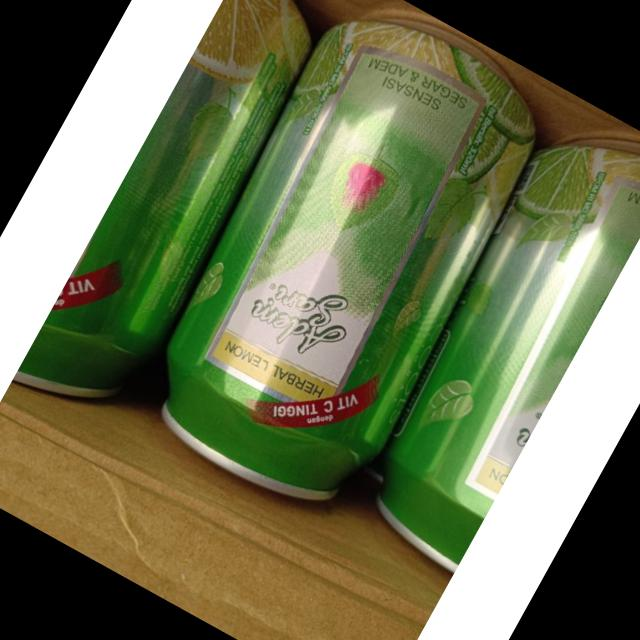ademsarikaleng: (113, 0, 576, 534), (10, 0, 353, 437), (336, 95, 640, 576)
